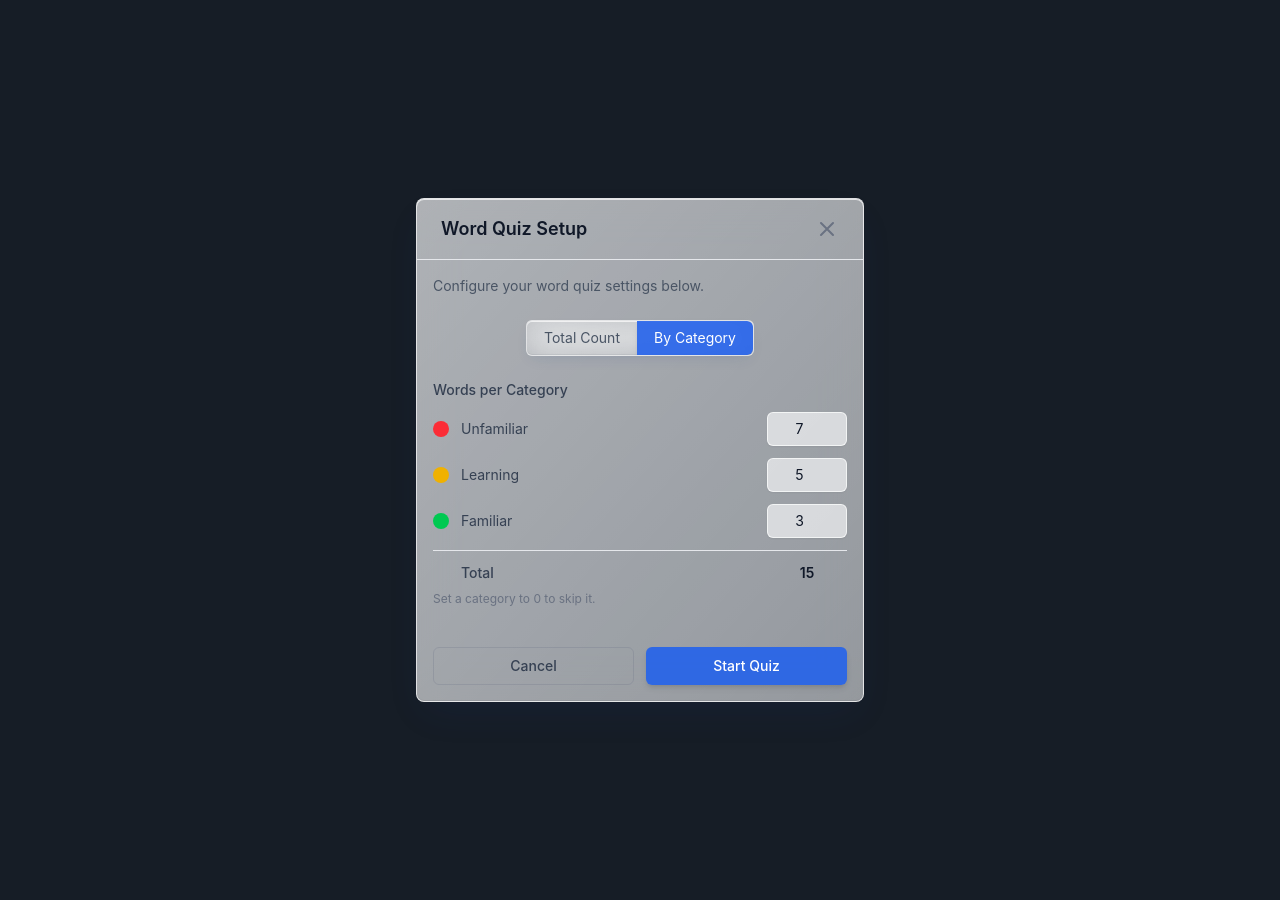
Scenario: QuizSetupModal › with familiarity selection › disables Start Quiz in total mode once every familiarity level is deselected
The image size is (1280, 900).
Click the button "Total Count". click: x=582, y=338
box: [527,321,637,355]
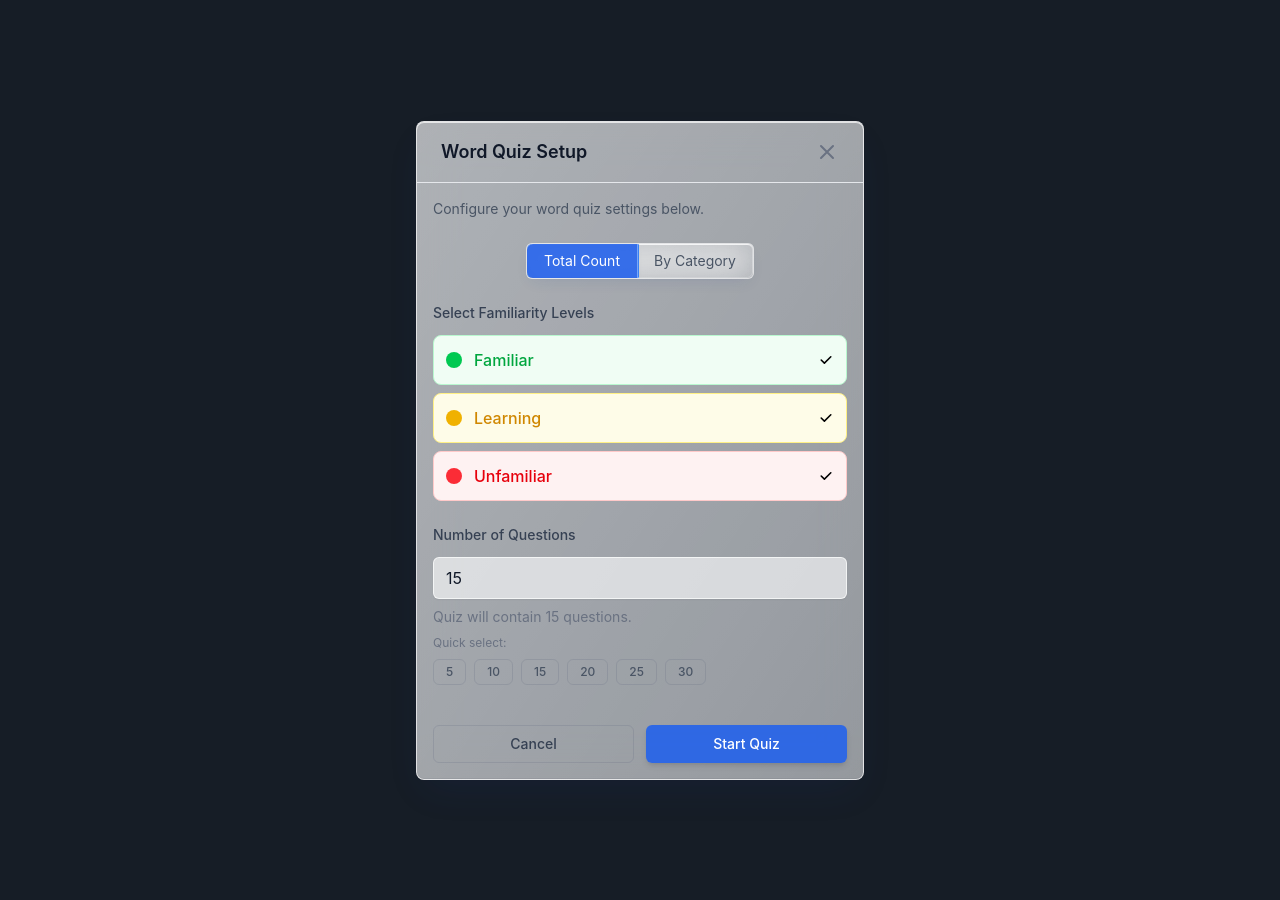
Click the checkbox labelled "Familiar". click: x=504, y=360
box: [433,334,847,384]
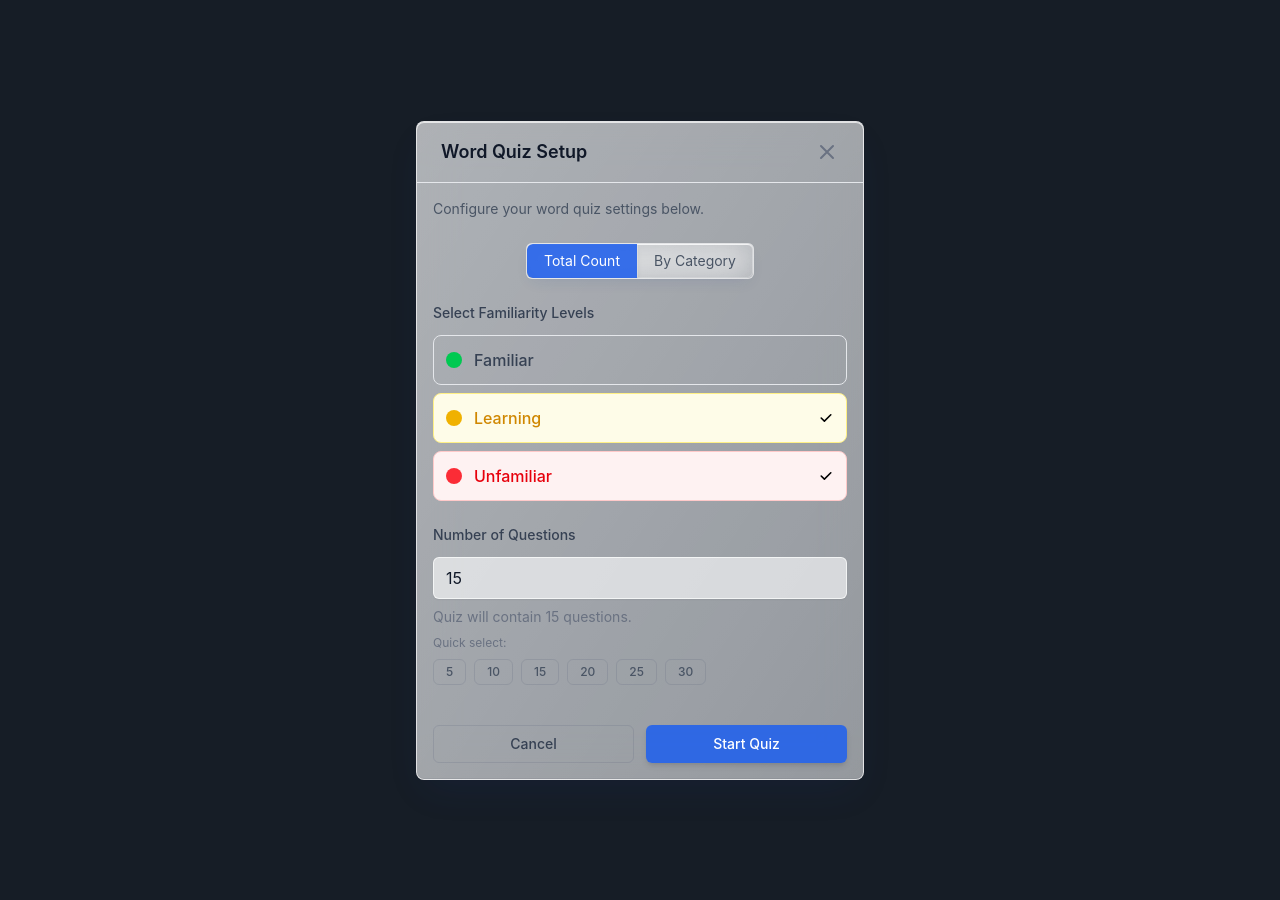
Click the checkbox labelled "Learning". click: x=508, y=418
box: [433,392,847,442]
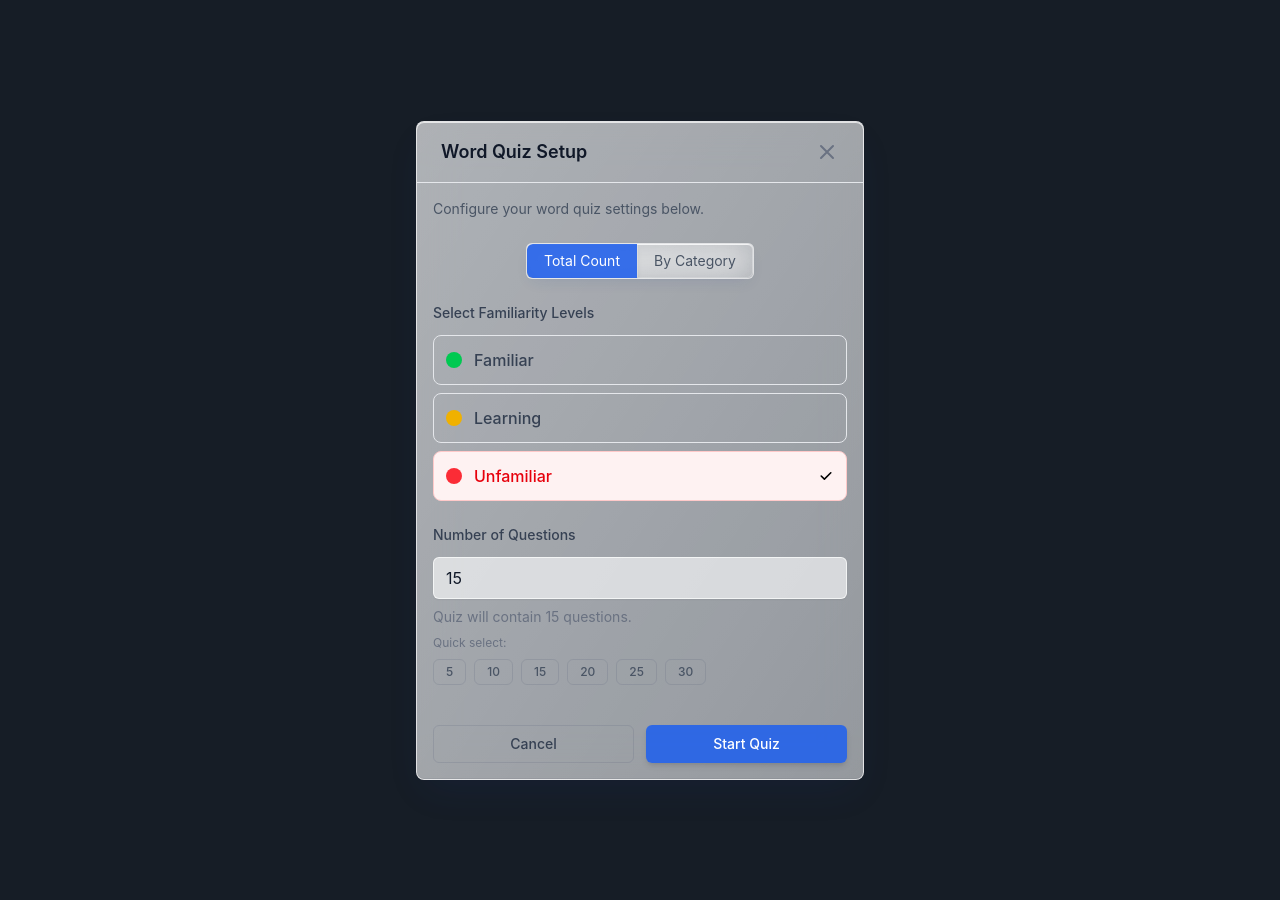
Click the checkbox labelled "Unfamiliar". click: x=513, y=476
box: [433,450,847,500]
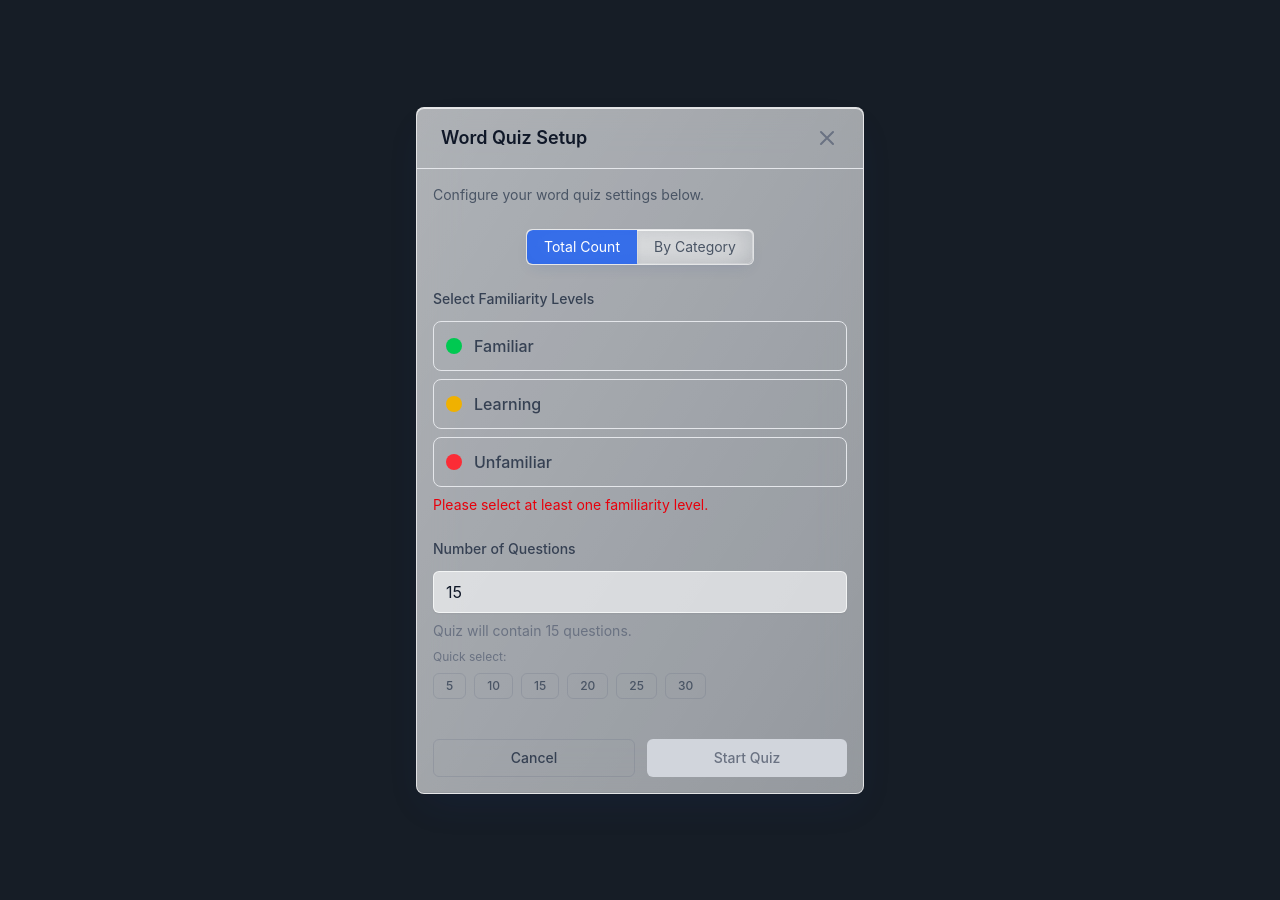
Now the button "Start Quiz" is disabled, box [647,738,847,776]
